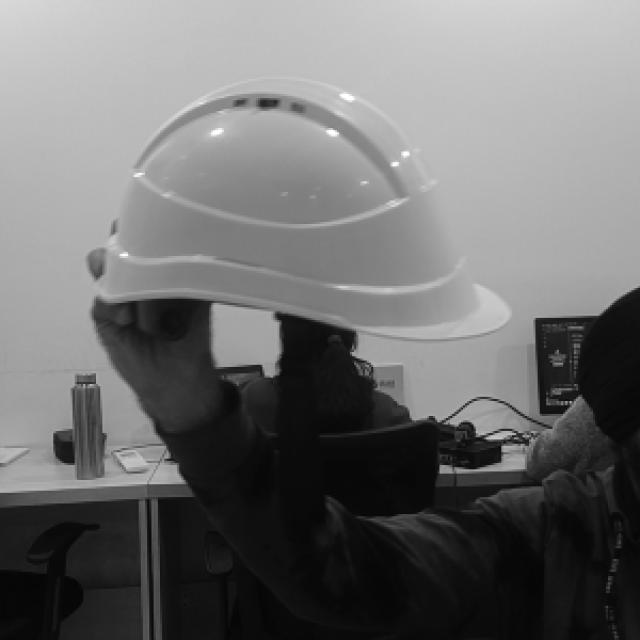safety_helmet: (98, 78, 510, 342)
